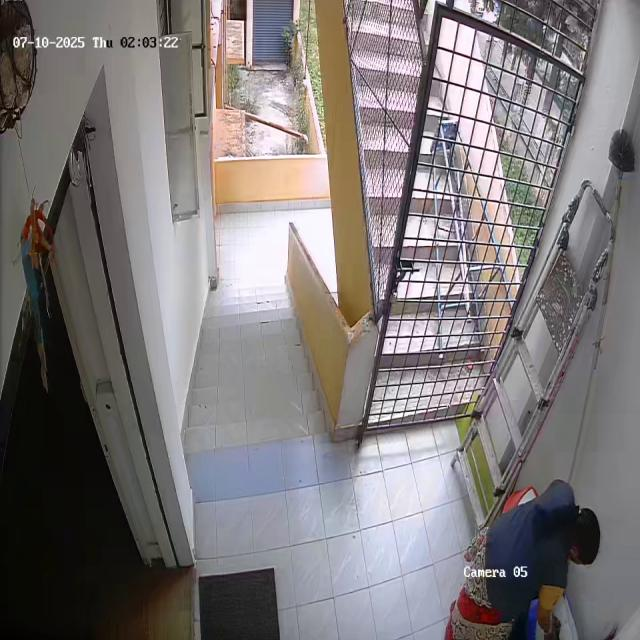person: (472, 488, 601, 640)
